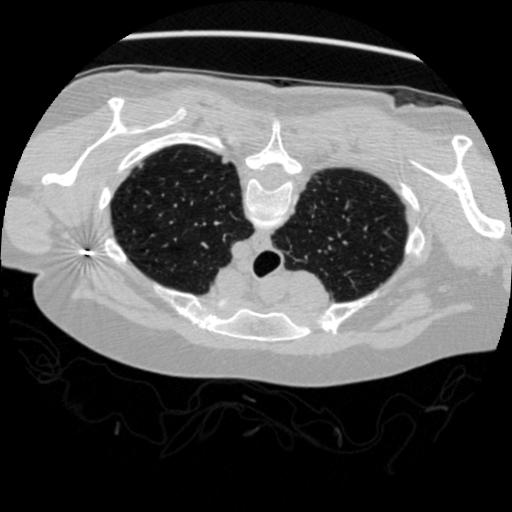nodule: (221, 156, 233, 168)
